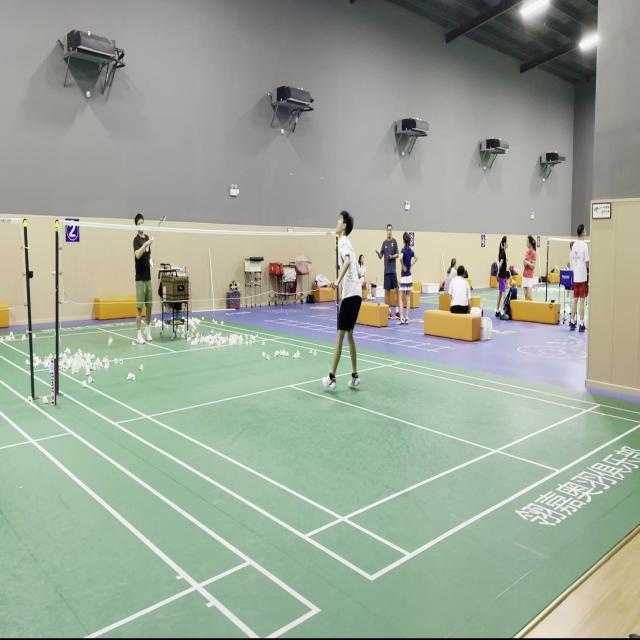shuttlecock: (108, 338, 113, 348)
